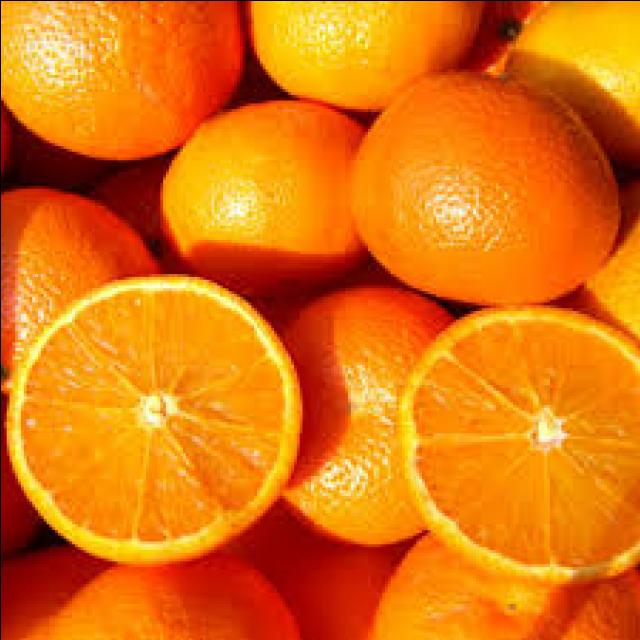orange: (334, 63, 625, 291)
